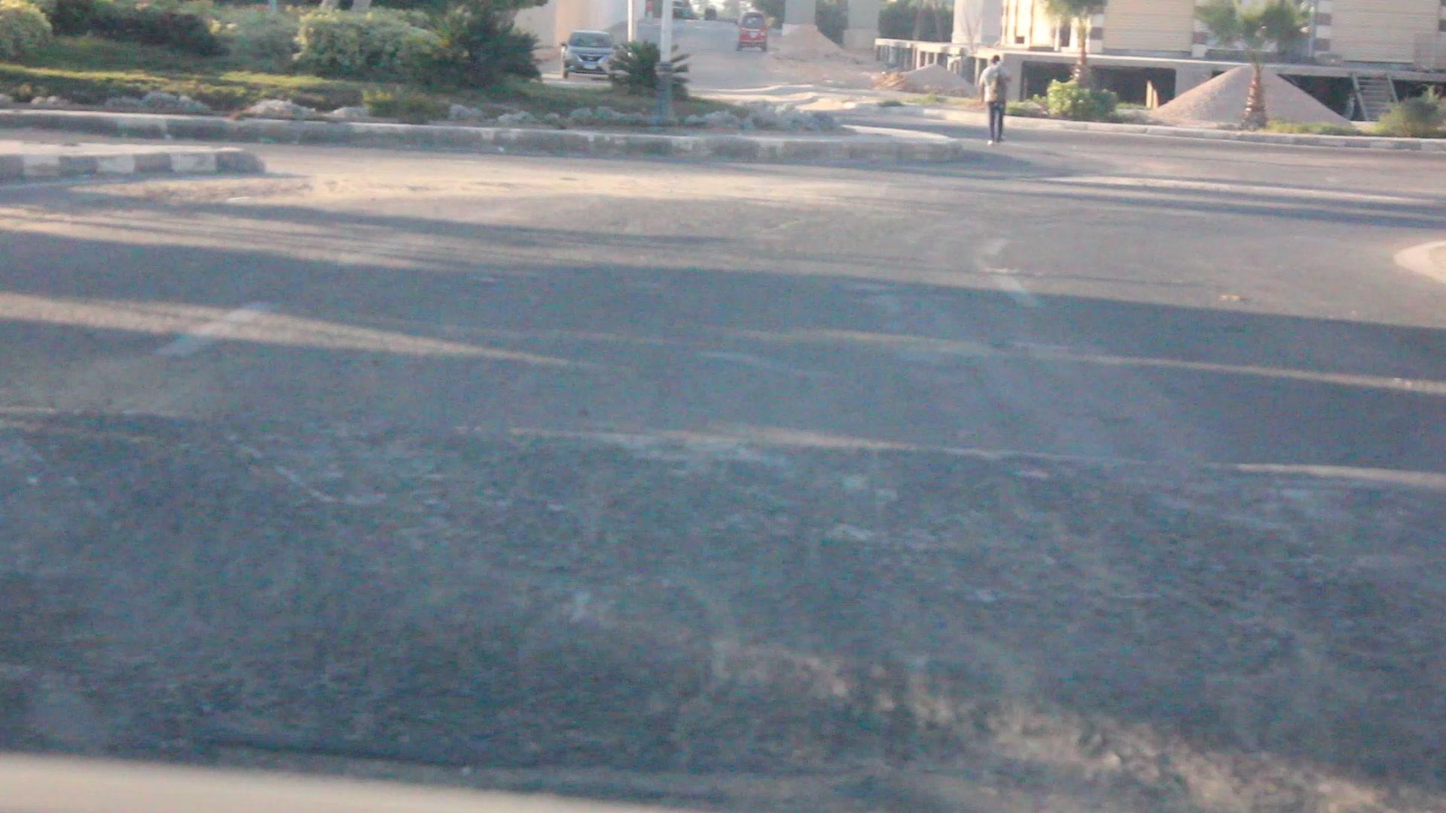Bump: (9, 406, 1446, 807)
